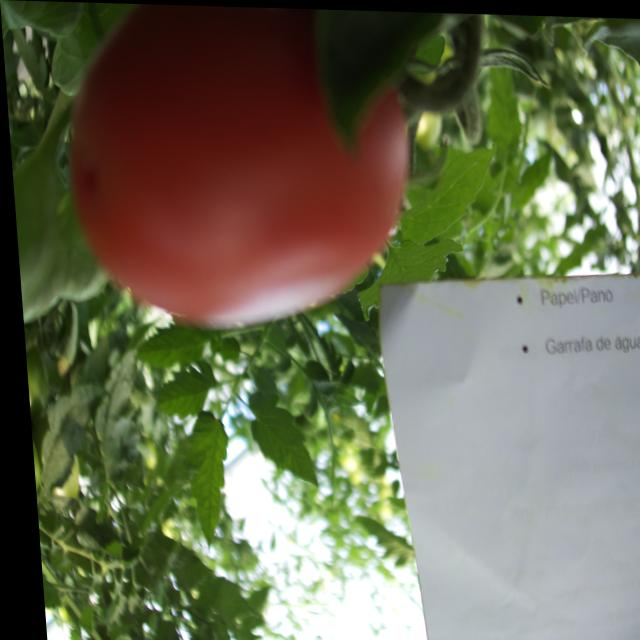kirmizi: (47, 5, 442, 334)
